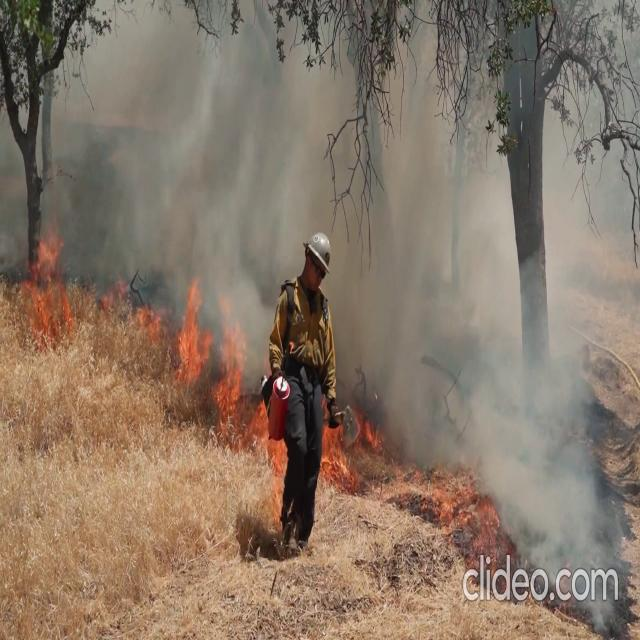Fire: (0, 230, 135, 336), (174, 278, 248, 425), (1, 228, 68, 332)
Smoke: (349, 41, 628, 584), (1, 10, 323, 302)
